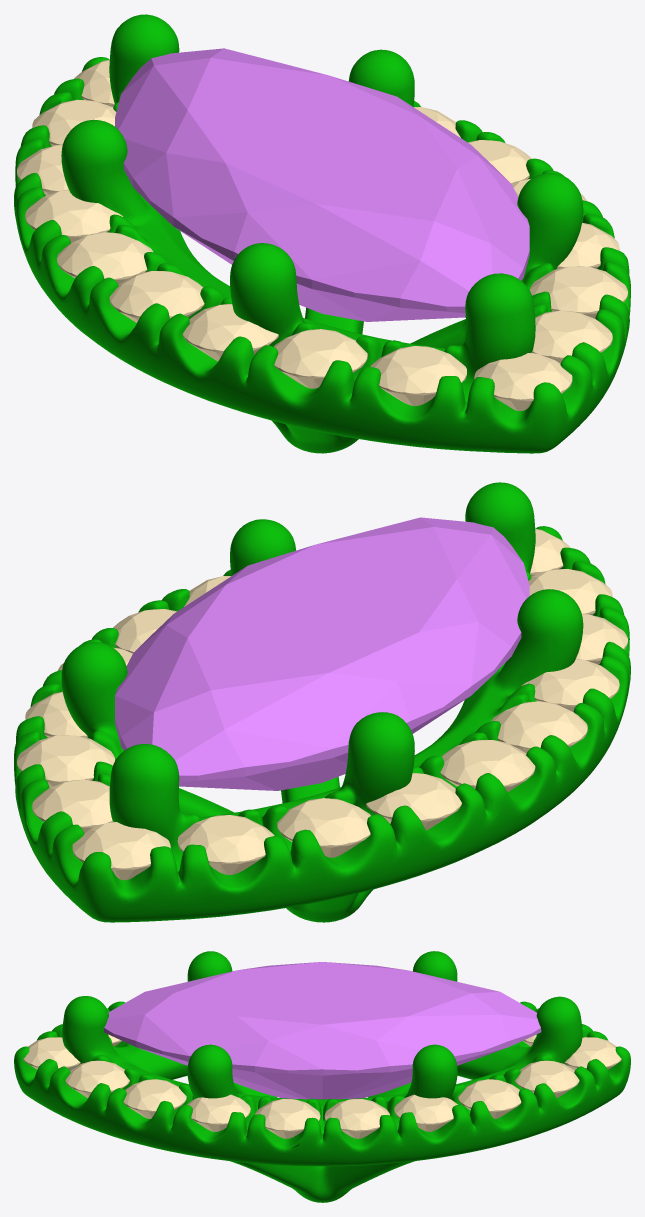
3 renders of one model, top to bottom at view 1: azimuth 30°, elevation 25°; view 2: azimuth 150°, elevation 25°; view 3: azimuth 270°, elevation 25°, orthographic. The views are drawn at different scales.
Parts seen in each view (by area): view 1: Metal01, Diamond_Marquise, Diamond_Round.013, Diamond_Round.014, Diamond_Round.016, Diamond_Round.017, Diamond_Round.012, Diamond_Round.010, Diamond_Round.011, Diamond_Round.015, Diamond_Round, Diamond_Round.002 (+4 smaller); view 2: Metal01, Diamond_Marquise, Diamond_Round.002, Diamond_Round.001, Diamond_Round.017, Diamond_Round.016, Diamond_Round.005, Diamond_Round.003, Diamond_Round.004, Diamond_Round, Diamond_Round.015, Diamond_Round.013 (+4 smaller); view 3: Metal01, Diamond_Marquise, Diamond_Round.007, Diamond_Round.008, Diamond_Round.005, Diamond_Round.010, Diamond_Round.004, Diamond_Round.011, Diamond_Round.006, Diamond_Round.009, Diamond_Round.003, Diamond_Round.012.
Part boxes in pixels (x1,y1,x2,y2): Metal01: (14,14,630,453); Diamond_Marquise: (115,48,529,321); Diamond_Round.013: (370,346,466,405); Diamond_Round.014: (274,329,367,388); Diamond_Round.016: (109,271,204,322); Diamond_Round.017: (57,232,153,284); Diamond_Round.012: (474,352,572,410); Diamond_Round.010: (530,266,627,318); Diamond_Round.011: (532,310,612,363); Diamond_Round.015: (183,304,278,361); Diamond_Round: (25,189,123,242); Diamond_Round.002: (32,99,116,146); Metal01: (14,482,630,922); Diamond_Marquise: (115,517,529,790); Diamond_Round.002: (177,815,274,874); Diamond_Round.001: (277,798,370,857); Diamond_Round.017: (440,740,535,792); Diamond_Round.016: (491,701,587,753); Diamond_Round.005: (17,735,114,787); Diamond_Round.003: (72,821,170,880); Diamond_Round.004: (32,779,112,832); Diamond_Round: (366,773,461,830); Diamond_Round.015: (521,658,619,711); Diamond_Round.013: (528,569,612,615); Metal01: (14,951,630,1202); Diamond_Marquise: (104,962,541,1099); Diamond_Round.007: (324,1099,389,1138); Diamond_Round.008: (255,1099,320,1138); Diamond_Round.005: (458,1079,521,1118); Diamond_Round.010: (123,1079,186,1118); Diamond_Round.004: (515,1060,579,1098); Diamond_Round.011: (65,1060,129,1097); Diamond_Round.006: (394,1094,457,1131); Diamond_Round.009: (187,1094,250,1131); Diamond_Round.003: (564,1037,621,1070); Diamond_Round.012: (23,1037,80,1070).
Size of the model in its own units: 9.51 by 5.89 by 16.02.
